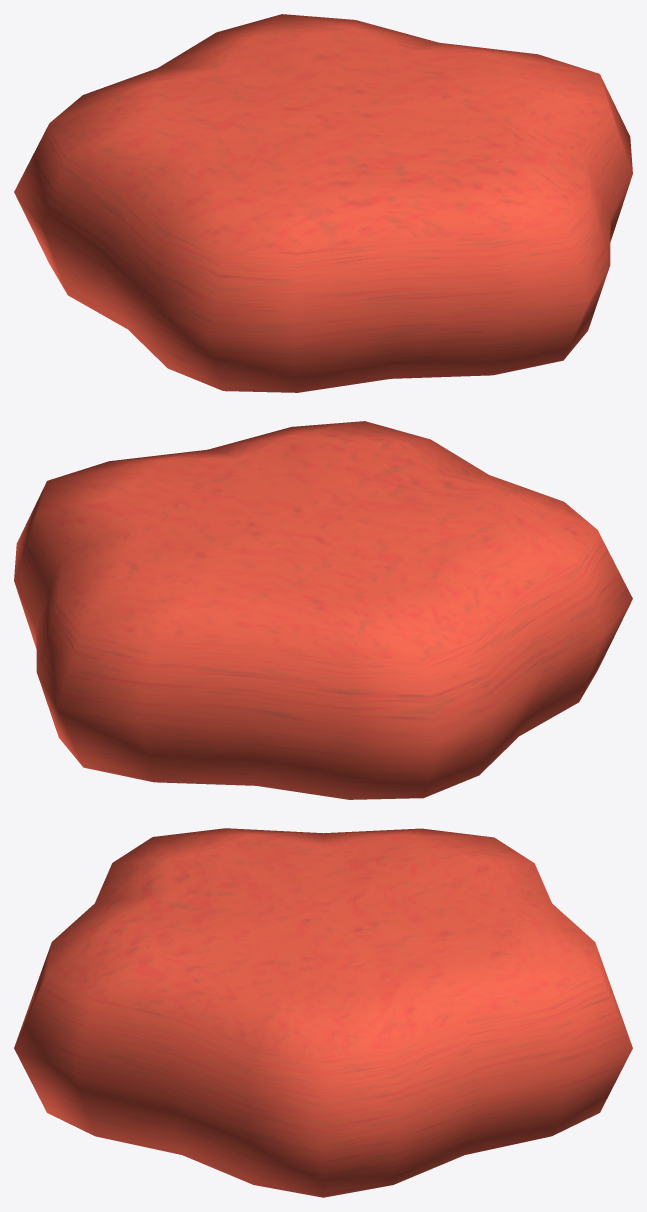
File: Cereal_Star_Red.fbx
The picture shows the model from 3 angles, top to bottom: view 1: azimuth 30°, elevation 25°; view 2: azimuth 150°, elevation 25°; view 3: azimuth 270°, elevation 25°; orthographic projection.
Visible parts, largest first — view 1: pCylinder3; view 2: pCylinder3; view 3: pCylinder3.
Part boxes in pixels (<box>): pCylinder3: <box>14,14,632,392</box>; pCylinder3: <box>14,421,632,799</box>; pCylinder3: <box>14,828,632,1197</box>.
Bounding box in the file's own units: 1.66 × 0.5592 × 1.7.
